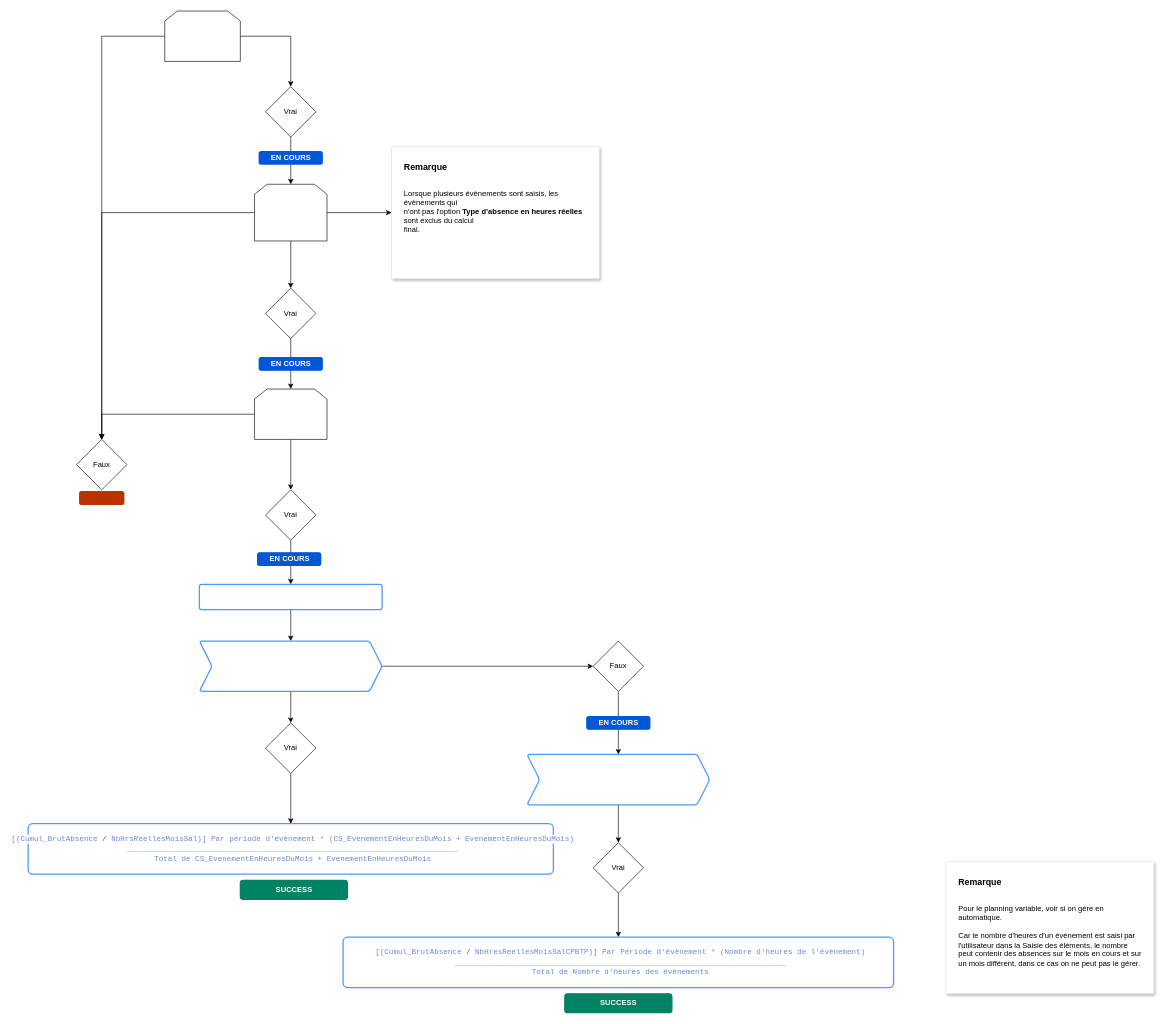
The diagram is 1169 pixels wide and 1024 high, and some of its shapes have lost their labels. The centre of each missing label's shape, as x and y in pixels:
AbsTxHorHresReellesSal = Vrai: point (618, 779)
Calcul du taux horaire des absences avec la moyenne pondérée: point (290, 596)
FIN: point (101, 498)
Le mois d'un évènements <> MoisPaie: point (290, 413)
Option des évèments : Types d'absence en heures réelles: point (290, 212)
Présence d'un ou de plusieurs évènements: point (202, 35)
TxHorAbsHrsReellesPlanFixSal = Vrai: point (290, 666)
